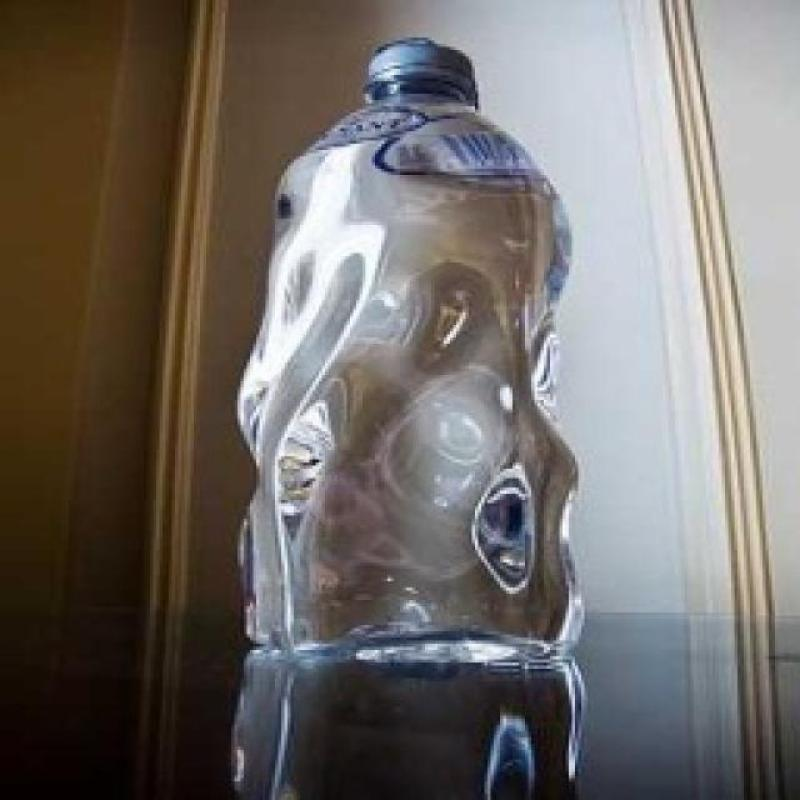botella: (231, 39, 588, 674)
